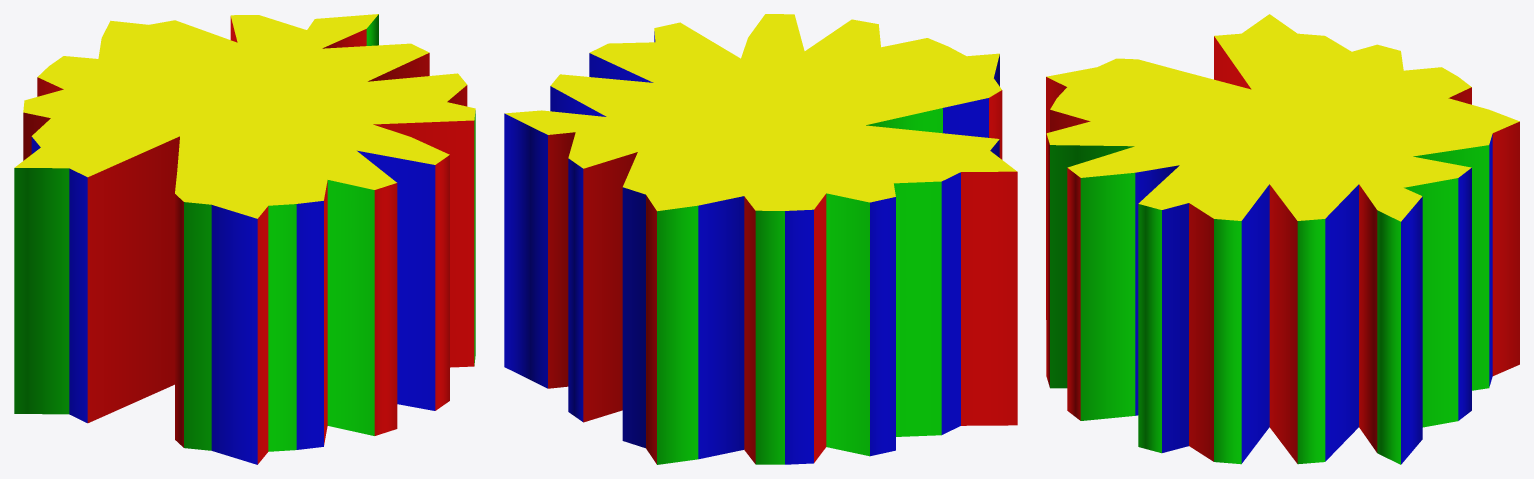
The model's file is 50prism_final.DAE.
3 views of the same model, side by side, from view 1: azimuth 30°, elevation 25°; view 2: azimuth 150°, elevation 25°; view 3: azimuth 270°, elevation 25° (orthographic). The views are drawn at different scales.
Parts seen in each view (by area): view 1: Cylinder001; view 2: Cylinder001; view 3: Cylinder001.
Boxes of the visible parts, box(x1,y1,x2,y2) form: Cylinder001: box(14, 14, 475, 464); Cylinder001: box(504, 14, 1017, 464); Cylinder001: box(1046, 14, 1519, 464).
Size of the model in its own units: 550 by 530 by 300.
